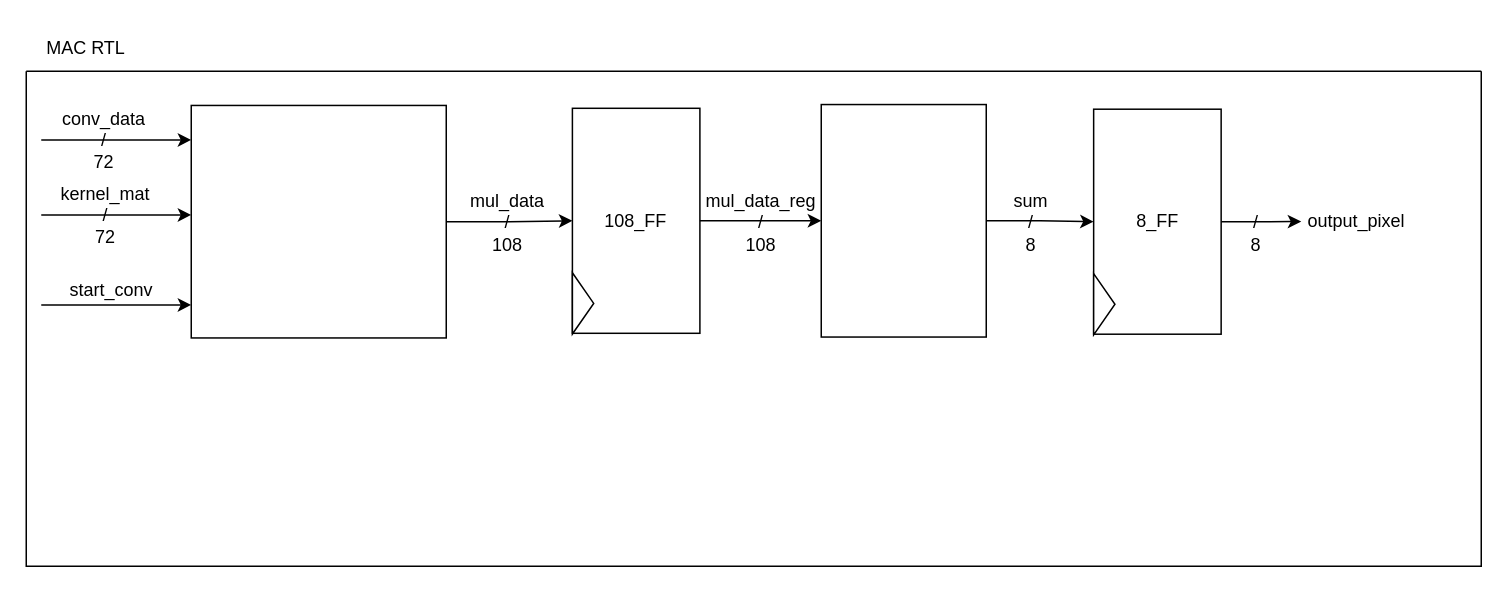
Some shapes in this 1508 by 593 pixel diagram are drawn without their labels. Each missing label, with the centre of its shape:
"multiply_data = {element-wise multiplication of conv_data and kernel_mat" goes at pixel 318 221.
"Sum all values of mul_data_reg together into one 8 bit value" goes at pixel 903 220.
